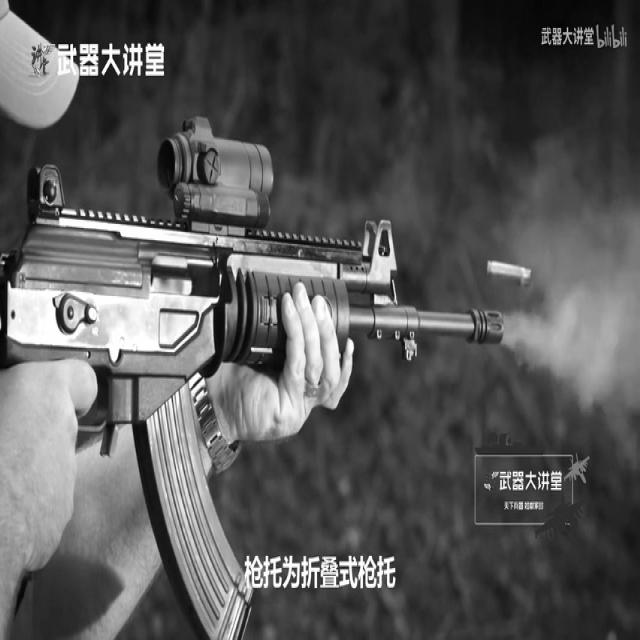Sub-machine-gun: (39, 86, 512, 632)
